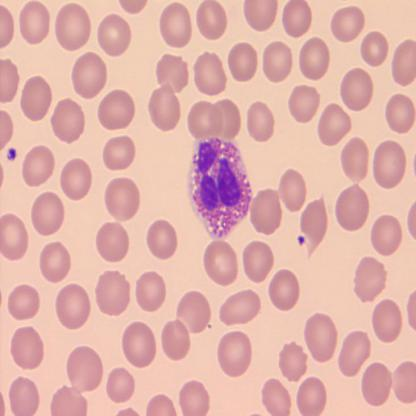Eosinophil: (190, 138, 254, 240)
